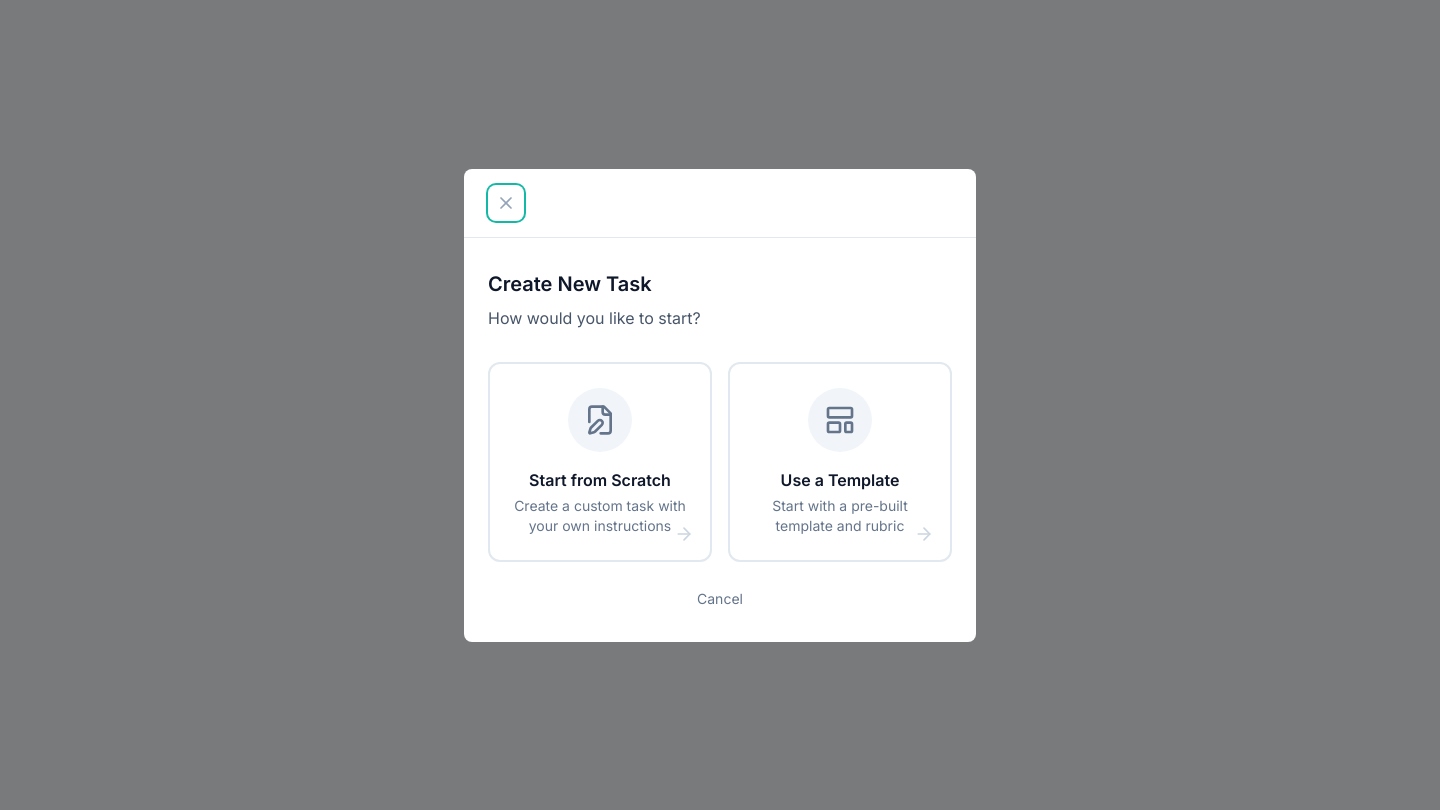
Test case: CreateTaskModal Component › Rendering › renders form elements after clicking Start from Scratch
Click "Start from Scratch" to go to form step
Click the heading "Start from Scratch".
click(600, 480)  # box [529,468,671,492]
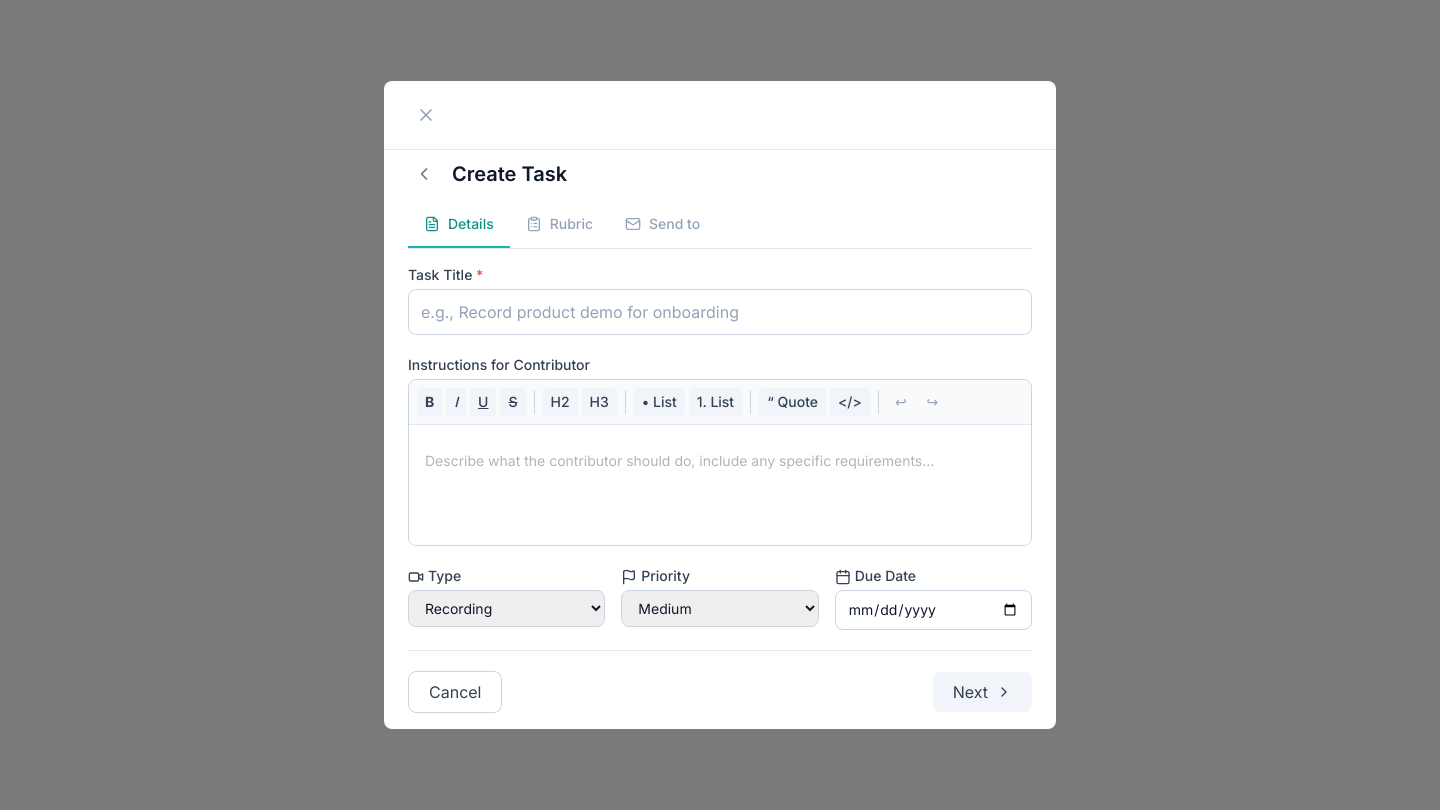
Expected: the text "Task Title *" is shown, [408,266,483,283]
Expected: the text "Type" is shown, [408,567,461,585]
Expected: the text "Priority" is shown, [621,567,690,585]
